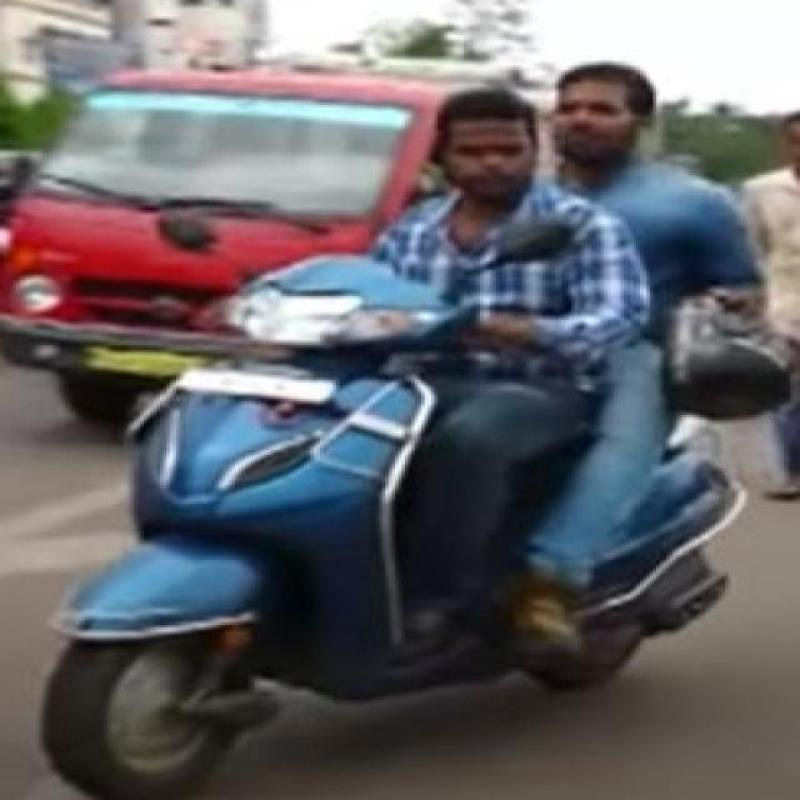nohelmet: (409, 87, 550, 198), (555, 58, 696, 167)
